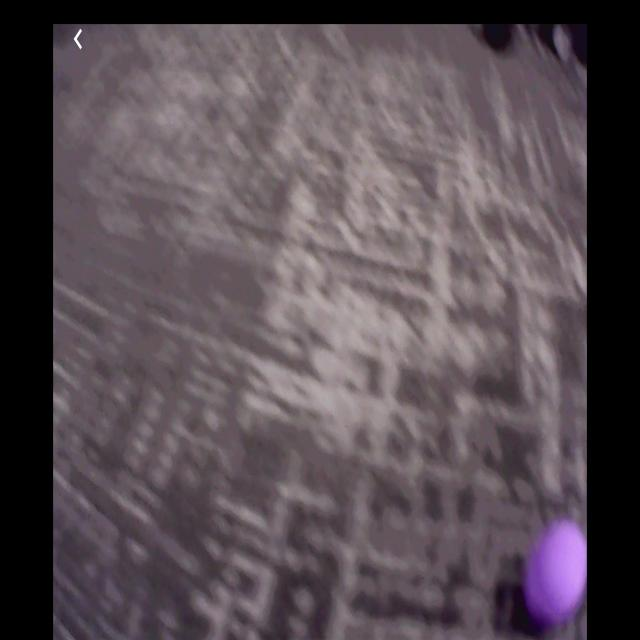ball: (524, 519, 587, 626)
